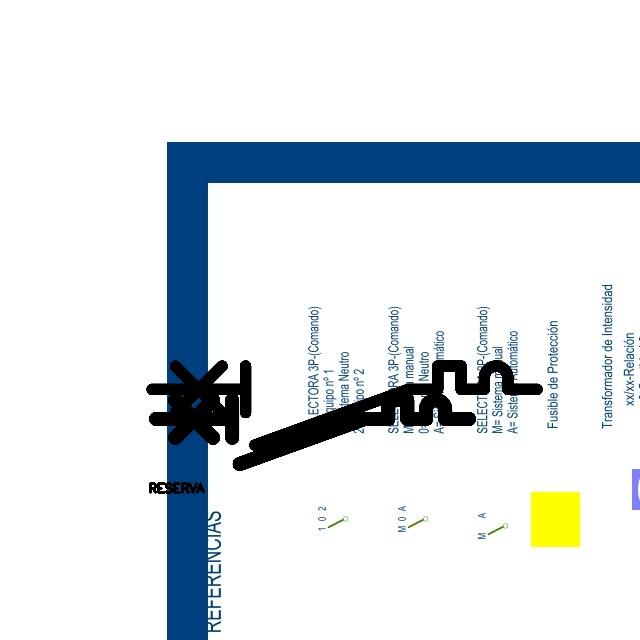interruptor_termomagnetico: (142, 356, 547, 455), (148, 392, 477, 472)
